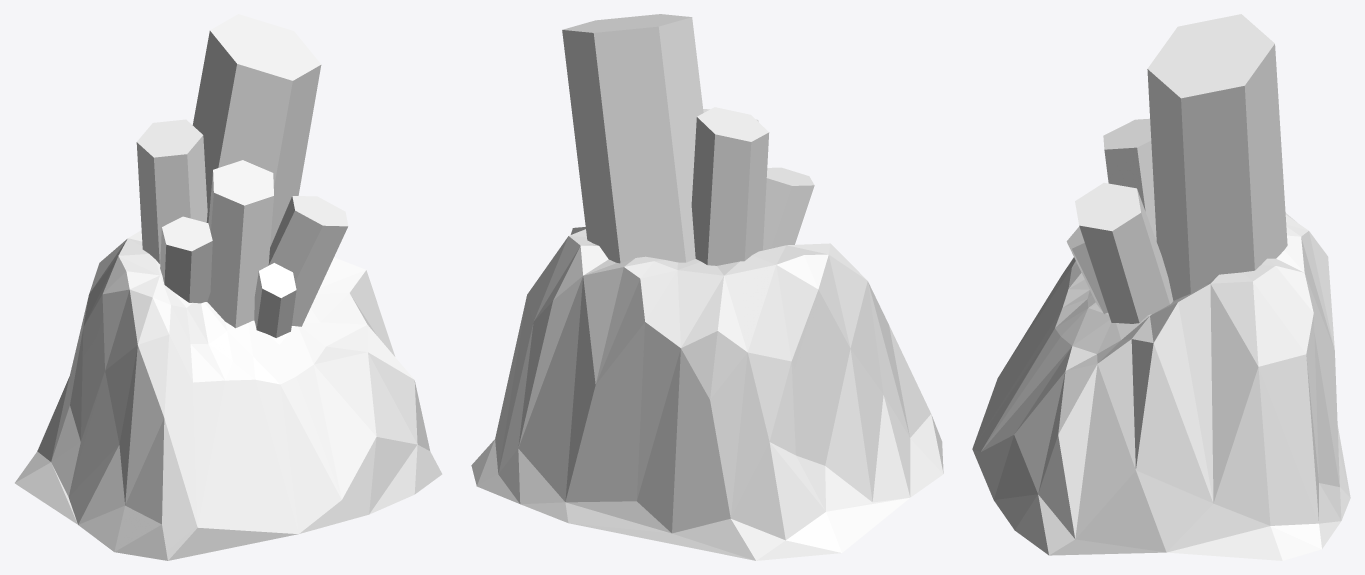
File: Mineral_BlueQuartz.fbx
3 renders of one model, left to right at view 1: azimuth 30°, elevation 25°; view 2: azimuth 150°, elevation 25°; view 3: azimuth 270°, elevation 25°, orthographic. The views are drawn at different scales.
Parts seen in each view (by area): view 1: Mineral_BlueQuartz; view 2: Mineral_BlueQuartz; view 3: Mineral_BlueQuartz.
Part boxes in pixels (x1,y1,x2,y2): Mineral_BlueQuartz: [15, 14, 442, 560]; Mineral_BlueQuartz: [471, 14, 943, 560]; Mineral_BlueQuartz: [972, 14, 1350, 560].
Size of what is drawn, in the model's own units: 471 by 563 by 414.
